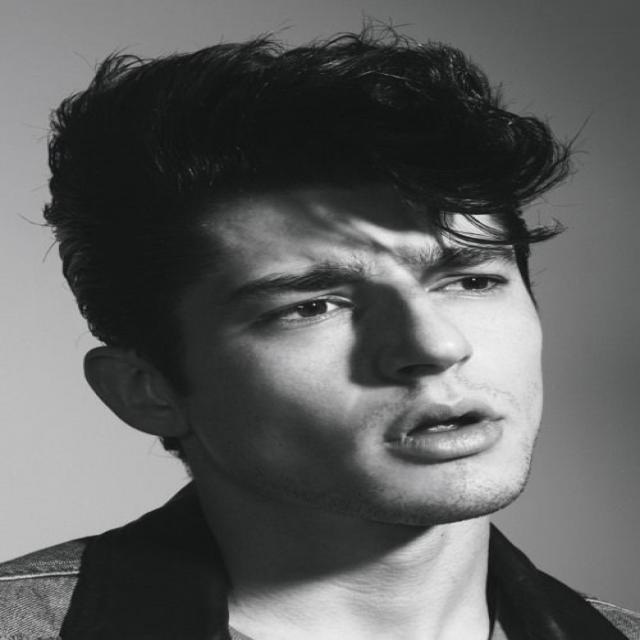earlobe: (83, 347, 190, 438)
